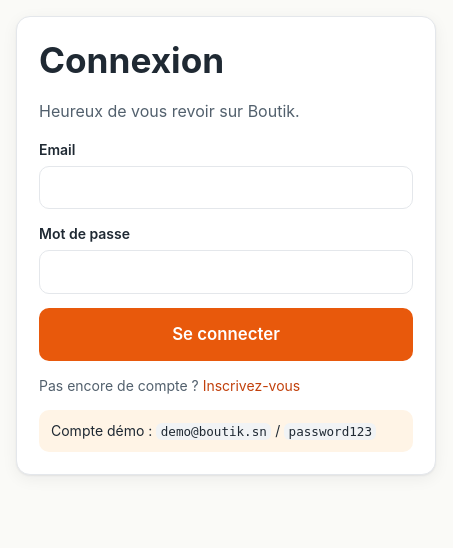
Scenario: Authentification › affiche l'erreur renvoyée par le serveur
In the field labelled "Email": coordinates (226, 188) [39,166,413,209], type "a@b.sn"
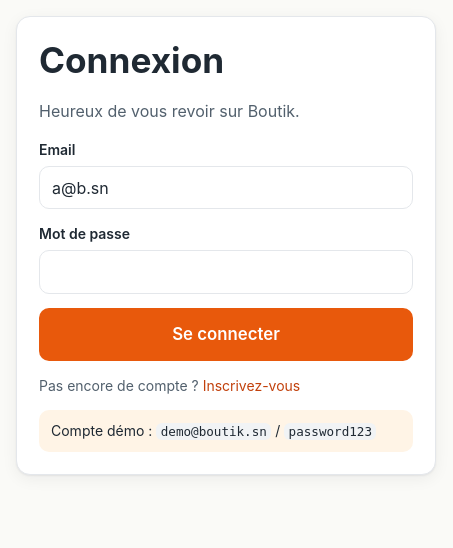
In the password field labelled "Mot de passe": coordinates (226, 272) [39,250,413,294], type "x"
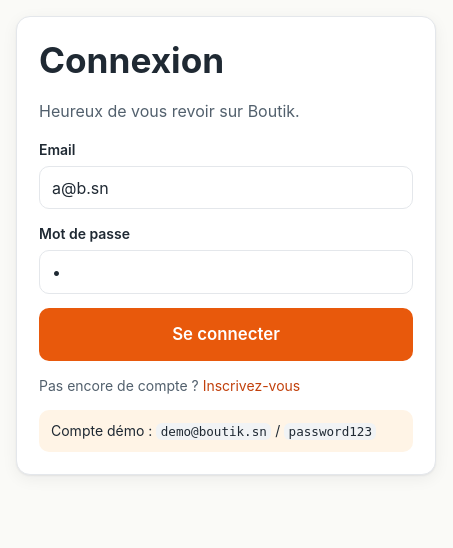
Click the button "Se connecter": coordinates (226, 334) [39,308,413,361]
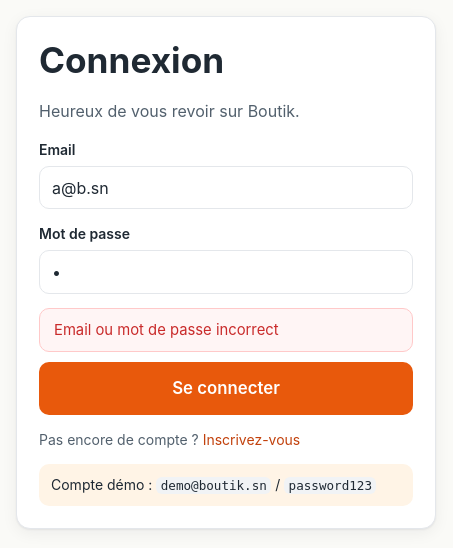
Result: the message reads "Email ou mot de passe incorrect" at [54,321,279,339]
